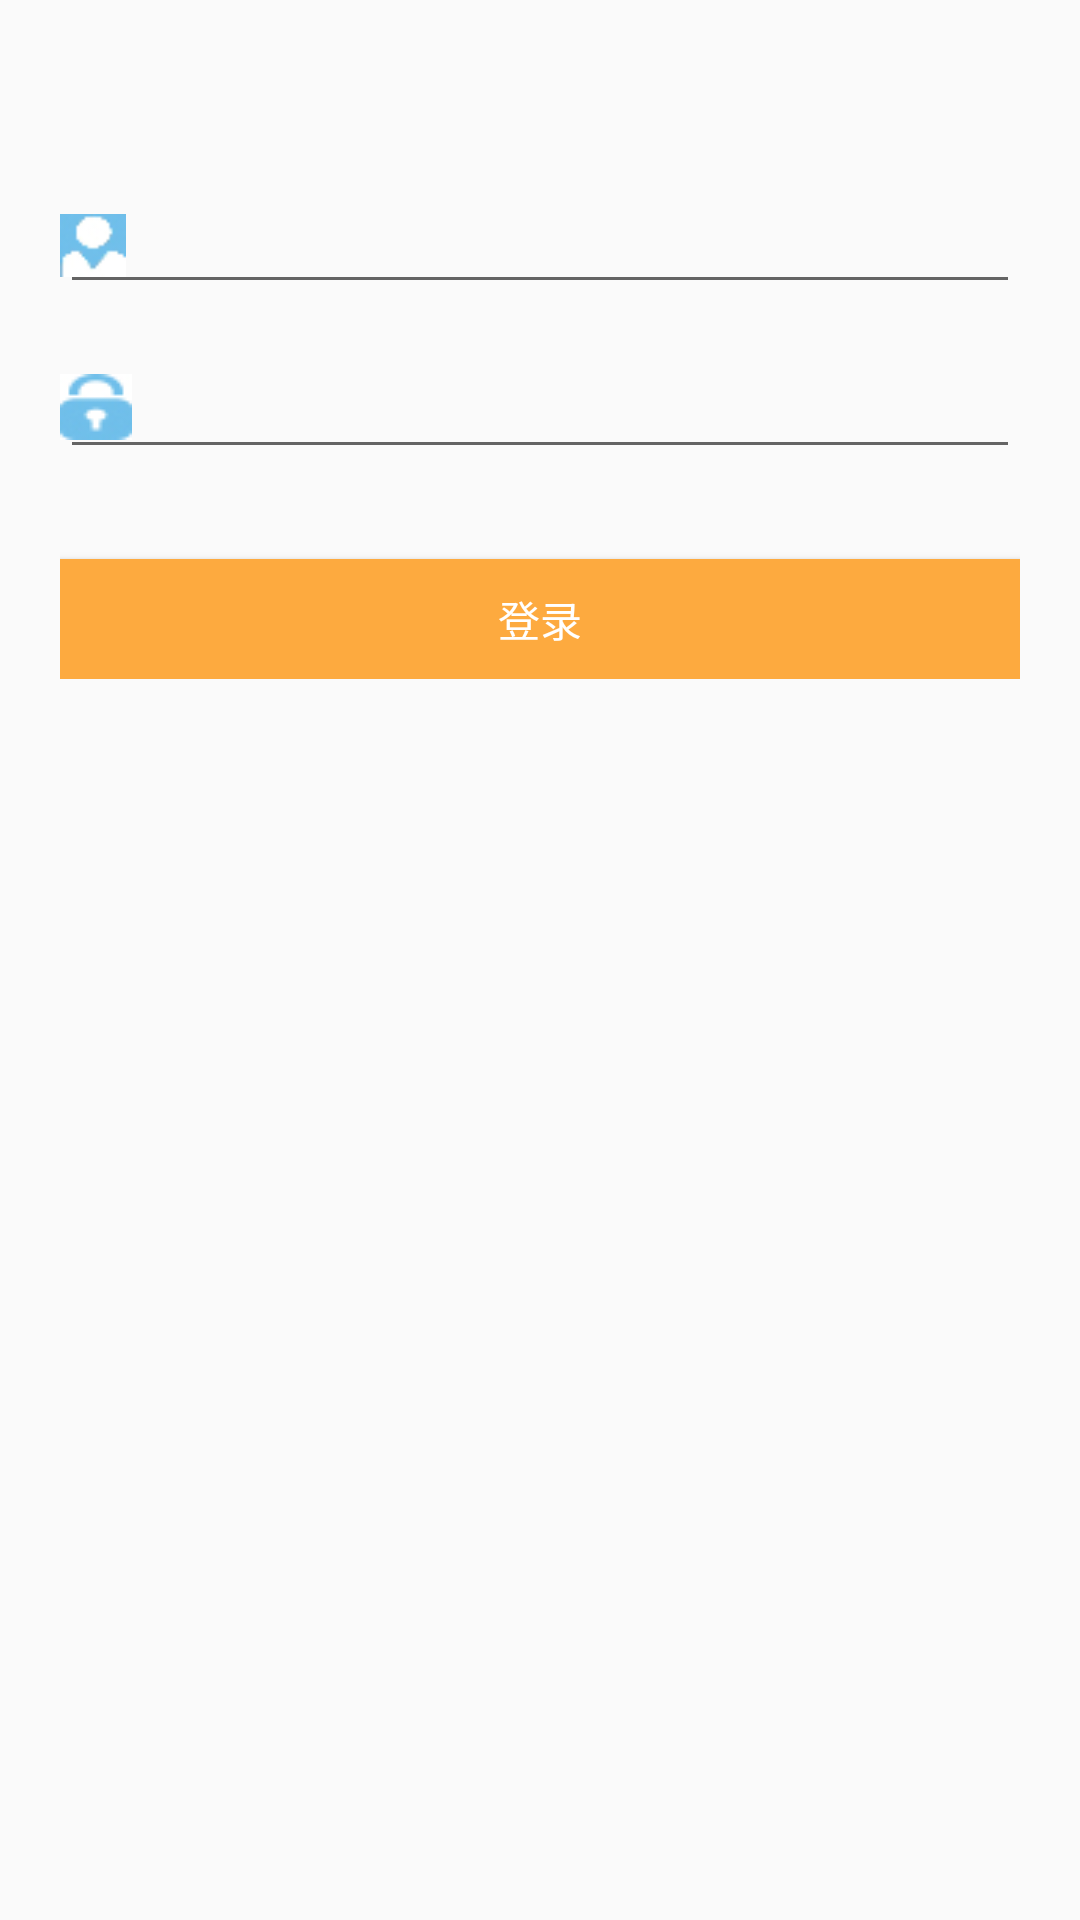

Where to tap for icons on this 1080*1920 app screen, as [x,y]:
login code in: [96,407]
login usr in: [93,245]
